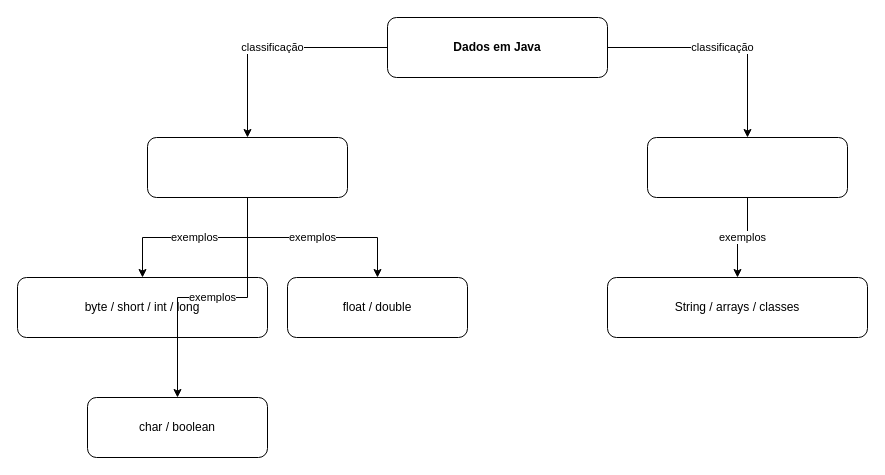
Image size: 885x475. Some labels were removed from this diagram. Here are the shapes that lost their labels. From the top down, the centre of each, then its label:
At (x=247, y=167): "Primitivos".
At (x=747, y=167): "Não-primitivos".
